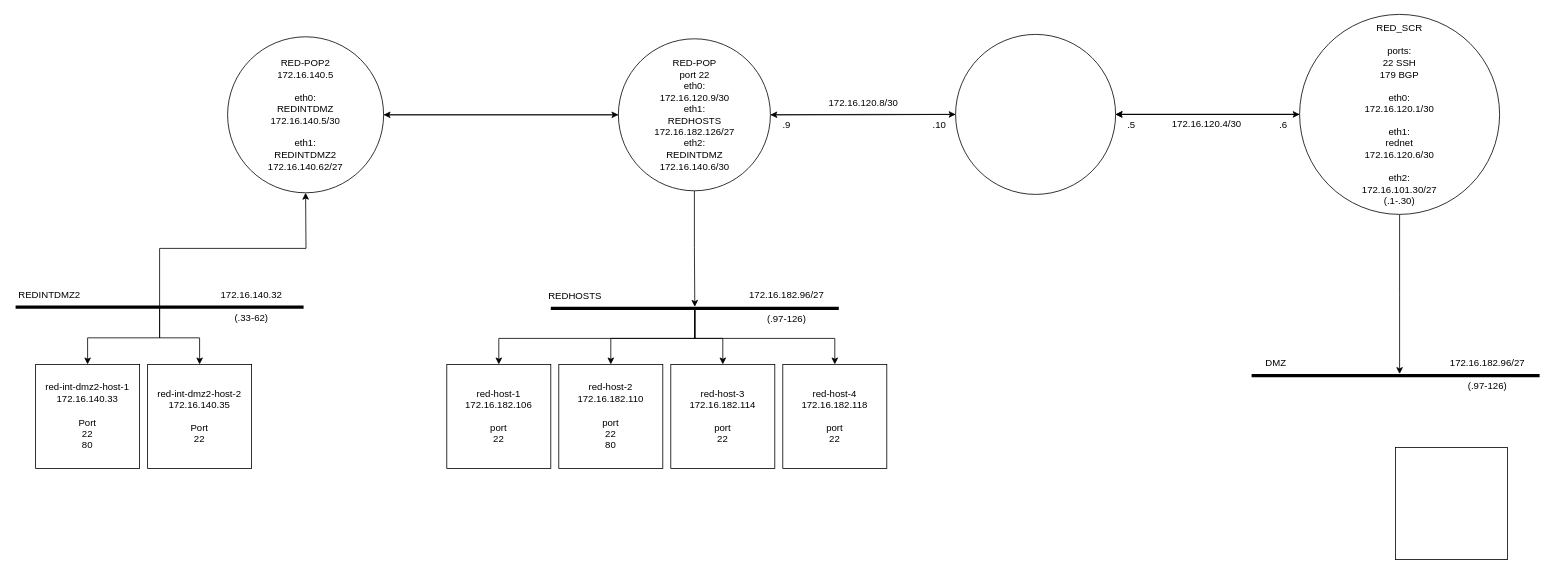
Image size: 1561x574. Some labels were removed from this diagram. The shapes that lost their labels are listed below. From the top down, each one's centre as x and y in pixels, then its label:
At (x=1035, y=114): "RED-IPS eth0 172.16.120.5/30 INTERNET eth1 rednet 172.16.120.10/30 port 22".
At (x=1451, y=503): "red-dmz-host-1 172.16.101.2 port 22".
